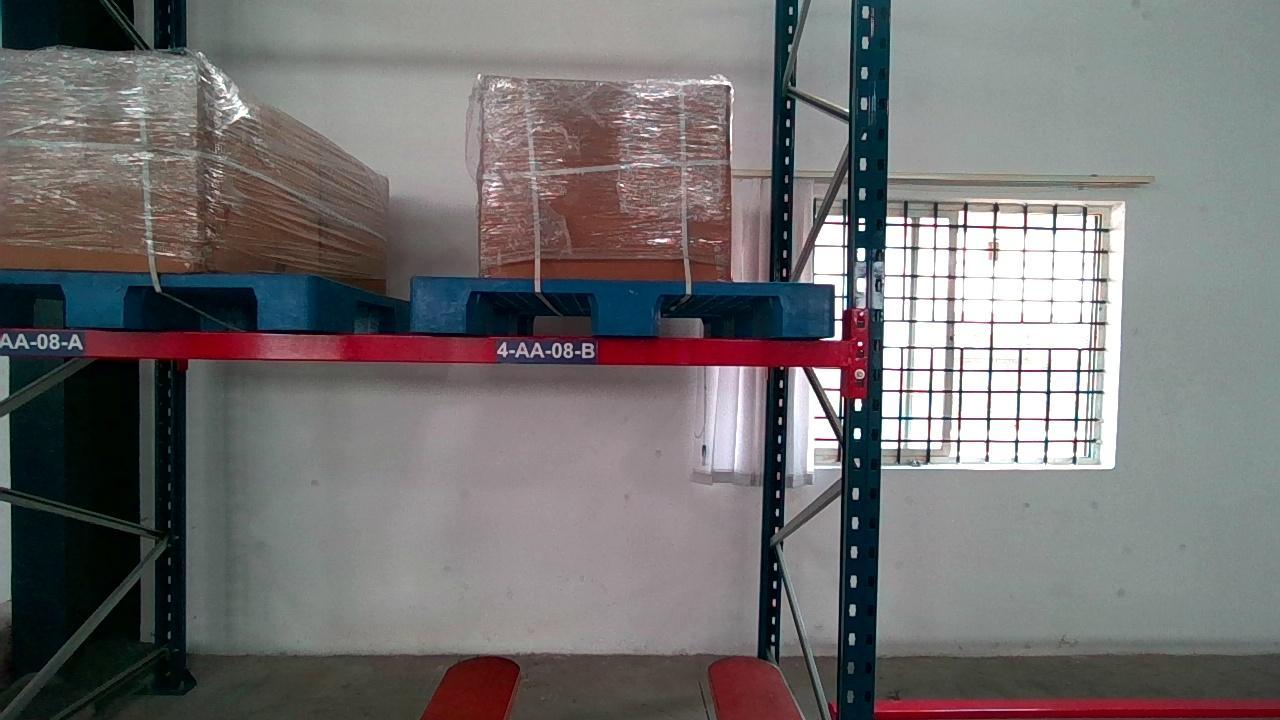small_pallet: (407, 278, 835, 338), (9, 269, 313, 332)
